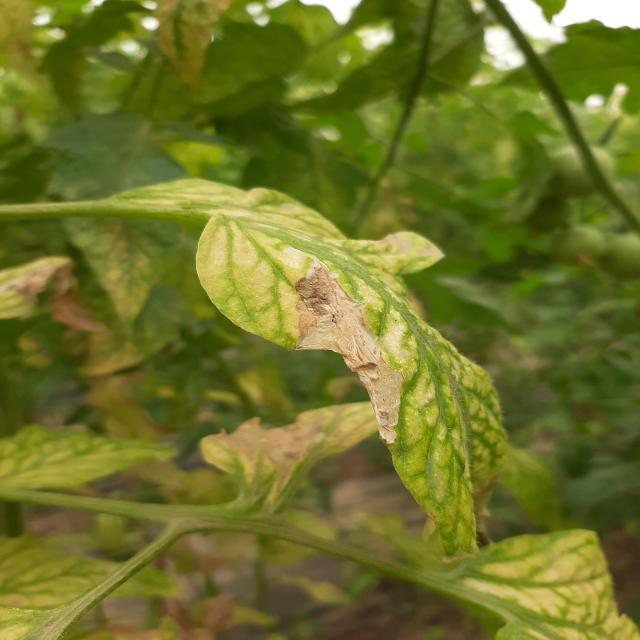Tuta absoluta: (259, 255, 447, 446)
